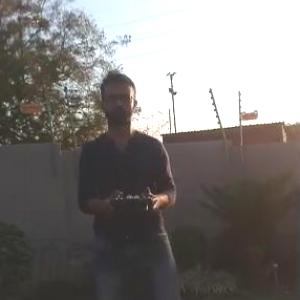follow: (73, 62, 190, 299)
